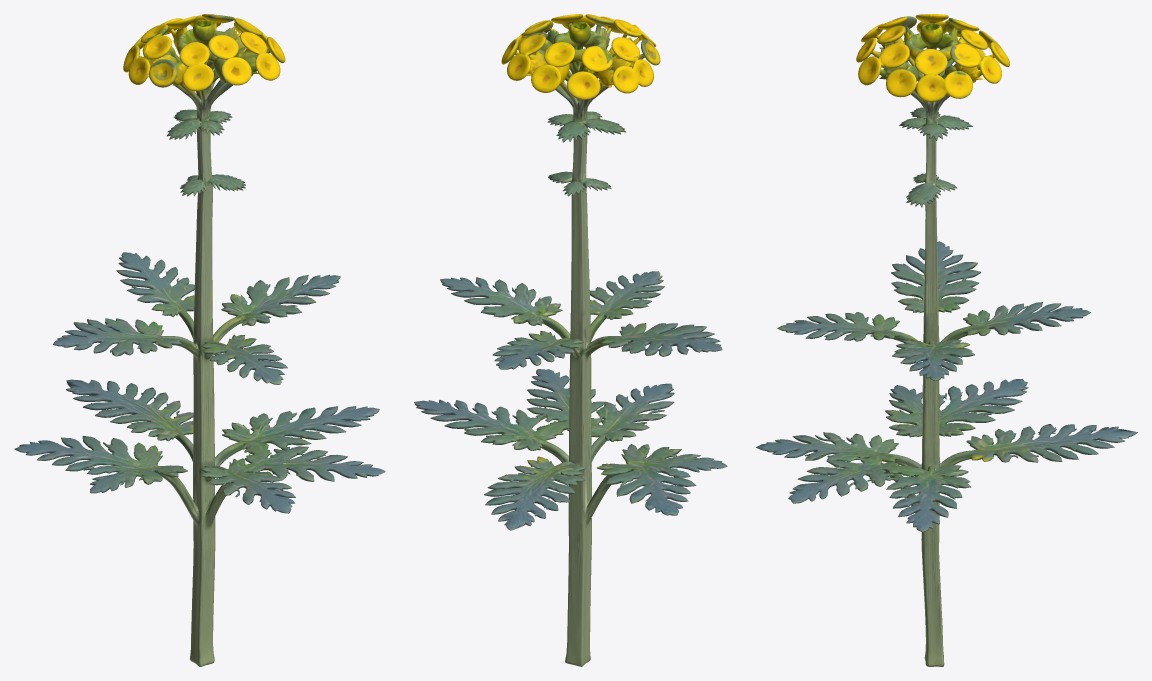
Rendered from yunxiang.glb.
The picture shows the model from 3 angles, left to right: view 1: azimuth 30°, elevation 25°; view 2: azimuth 150°, elevation 25°; view 3: azimuth 270°, elevation 25°; orthographic projection.
Visible parts, largest first — view 1: node_0; view 2: node_0; view 3: node_0.
Part boxes in pixels (x1,y1,x2,y2): node_0: (14,14,385,666); node_0: (414,14,727,666); node_0: (756,14,1137,666).
Bounding box in the file's own units: 0.6202 × 1.19 × 0.6473.
1 material, 1 textured.
